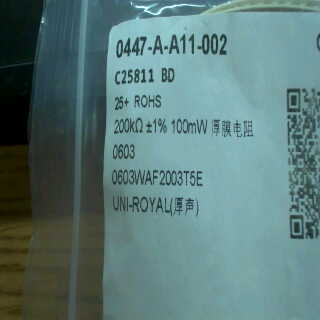200kR: (107, 114, 147, 139)
